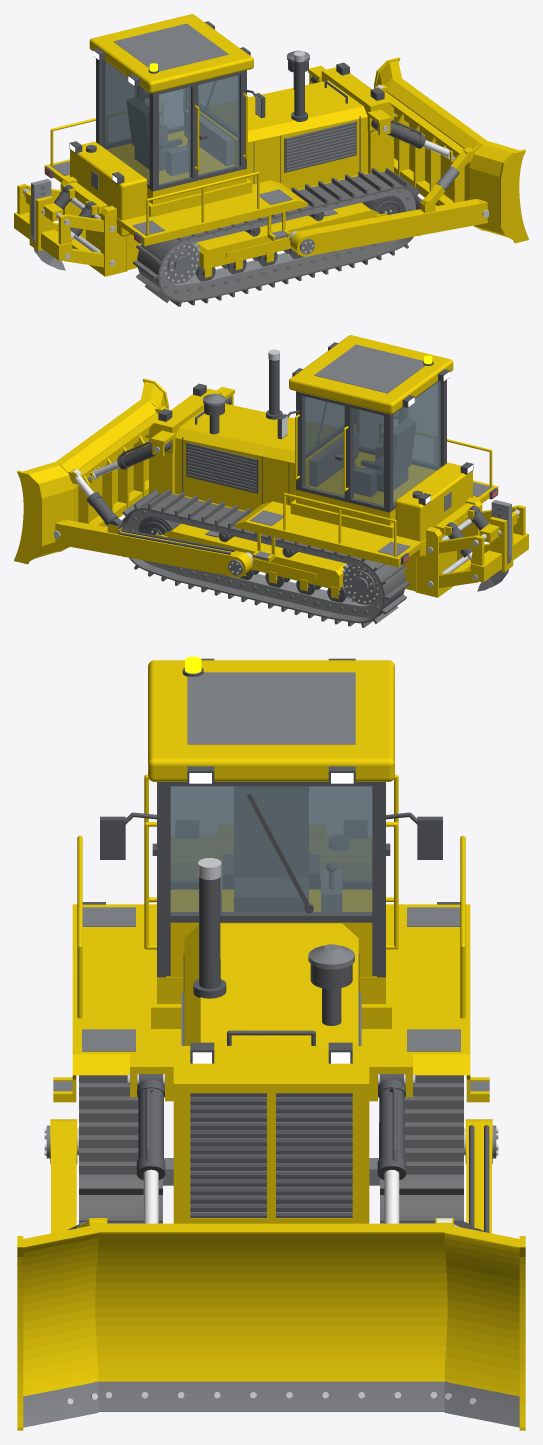
File: Crawler_Dozer_20t.glb
3 views of the same model, one above another, from view 1: azimuth 30°, elevation 25°; view 2: azimuth 150°, elevation 25°; view 3: azimuth 270°, elevation 25° (orthographic). The views are drawn at different scales.
Parts seen in each view (by area): view 1: track_frame_L, track_rollers_L, cab_glass, link_pins_L, track_shoes_L, track_links_L, idler_bolts_L, ripper_shank, mirror_glass; view 2: track_frame_L, track_rollers_L, cab_glass, link_pins_L, track_shoes_L, track_links_L, idler_bolts_L, ripper_shank, mirror_glass; view 3: track_frame_L, track_rollers_L, link_pins_L, cab_glass, track_shoes_L, mirror_glass, idler_bolts_L, headlights.
Boxes of the visible parts, x1=… form: track_frame_L: x1=14, y1=14, x2=528, y2=277; track_rollers_L: x1=45, y1=21, x2=425, y2=281; cab_glass: x1=102, y1=60, x2=239, y2=184; link_pins_L: x1=40, y1=23, x2=459, y2=293; track_shoes_L: x1=133, y1=168, x2=422, y2=306; track_links_L: x1=160, y1=189, x2=415, y2=296; idler_bolts_L: x1=23, y1=51, x2=488, y2=282; ripper_shank: x1=31, y1=179, x2=53, y2=266; mirror_glass: x1=70, y1=85, x2=450, y2=239; track_frame_L: x1=14, y1=335, x2=528, y2=598; track_rollers_L: x1=86, y1=342, x2=497, y2=602; cab_glass: x1=303, y1=381, x2=440, y2=505; link_pins_L: x1=130, y1=344, x2=502, y2=614; track_shoes_L: x1=121, y1=489, x2=409, y2=627; track_links_L: x1=127, y1=510, x2=382, y2=617; idler_bolts_L: x1=54, y1=349, x2=519, y2=603; ripper_shank: x1=489, y1=500, x2=511, y2=587; mirror_glass: x1=72, y1=416, x2=472, y2=560; track_frame_L: x1=17, y1=660, x2=525, y2=1430; track_rollers_L: x1=82, y1=658, x2=489, y2=1232; link_pins_L: x1=23, y1=672, x2=519, y2=1427; cab_glass: x1=170, y1=786, x2=372, y2=913; track_shoes_L: x1=79, y1=1075, x2=463, y2=1223; mirror_glass: x1=143, y1=1169, x2=458, y2=1226; idler_bolts_L: x1=44, y1=858, x2=498, y2=1404; headlights: x1=189, y1=773, x2=353, y2=1063.
Bounding box in the file's own units: 133 × 65.66 × 67.6.
